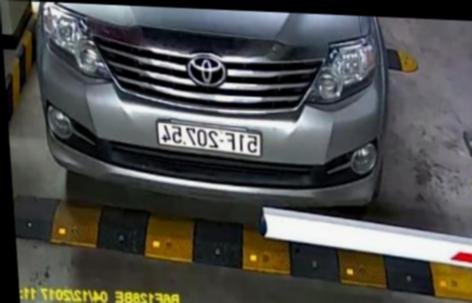License_Plate: (150, 118, 268, 154)
